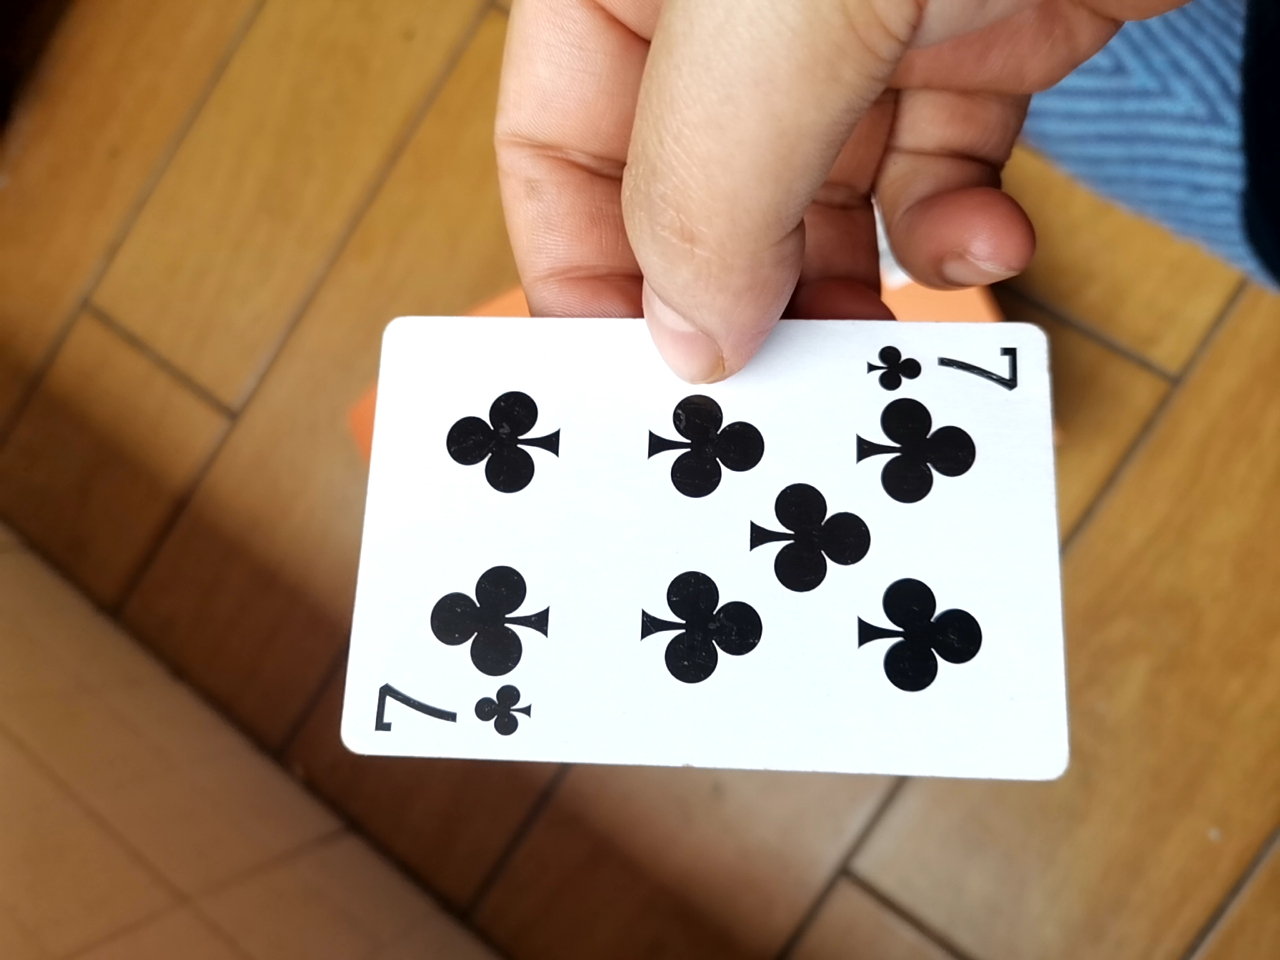mh 7: (316, 319, 1064, 790)
